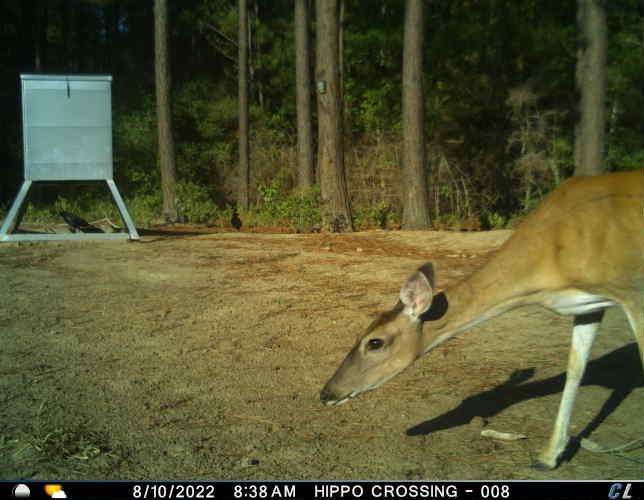Deer: (315, 170, 644, 477)
